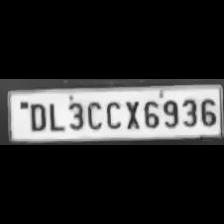3: (64, 99, 84, 130), (180, 96, 198, 128)
6: (140, 97, 160, 129), (198, 95, 218, 127)
9: (160, 96, 178, 128)
C: (85, 98, 103, 130), (104, 98, 122, 130)
D: (26, 100, 46, 132)
L: (46, 99, 64, 131)
X: (122, 97, 140, 130)
